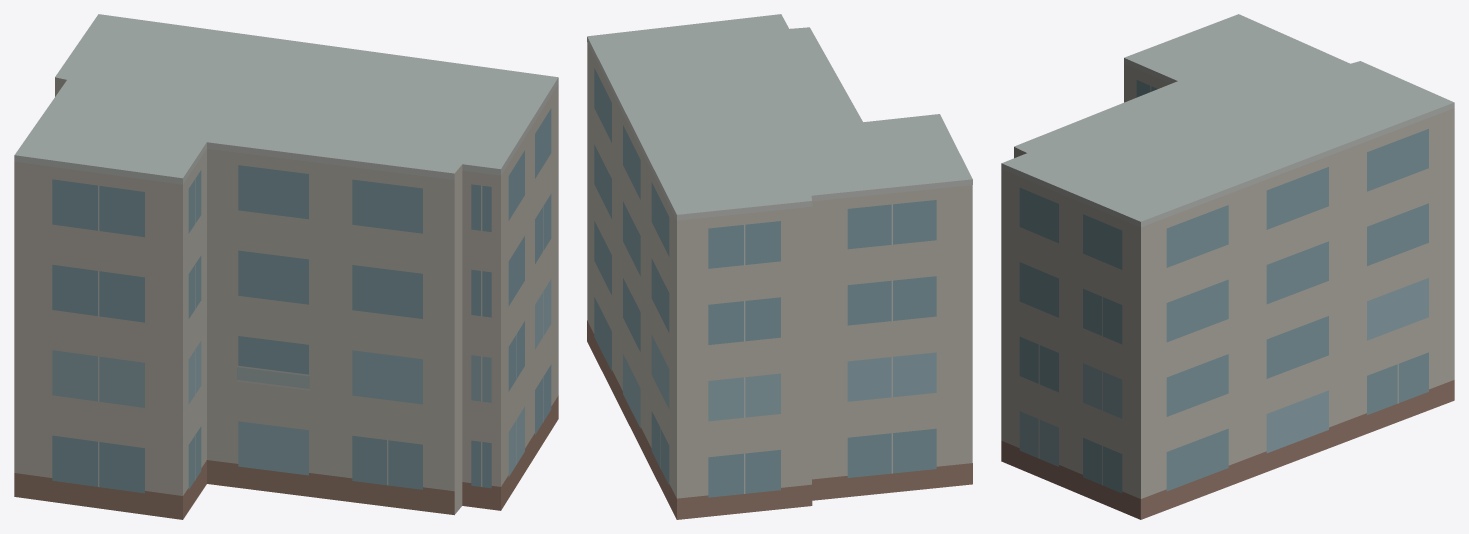
Rendered from survey-upis-32846226.glb.
3 renders of one model, left to right at view 1: azimuth 30°, elevation 25°; view 2: azimuth 150°, elevation 25°; view 3: azimuth 270°, elevation 25°, orthographic. The views are drawn at different scales.
Visible parts, largest first — view 1: survey-upis-32846226.tmp; view 2: survey-upis-32846226.tmp; view 3: survey-upis-32846226.tmp.
Boxes of the visible parts, x1,y1,x2,y2 form: survey-upis-32846226.tmp: (14,14,558,519); survey-upis-32846226.tmp: (587,14,972,519); survey-upis-32846226.tmp: (1001,14,1454,519).
Size of the model in its own units: 19.44 by 13 by 17.92.
